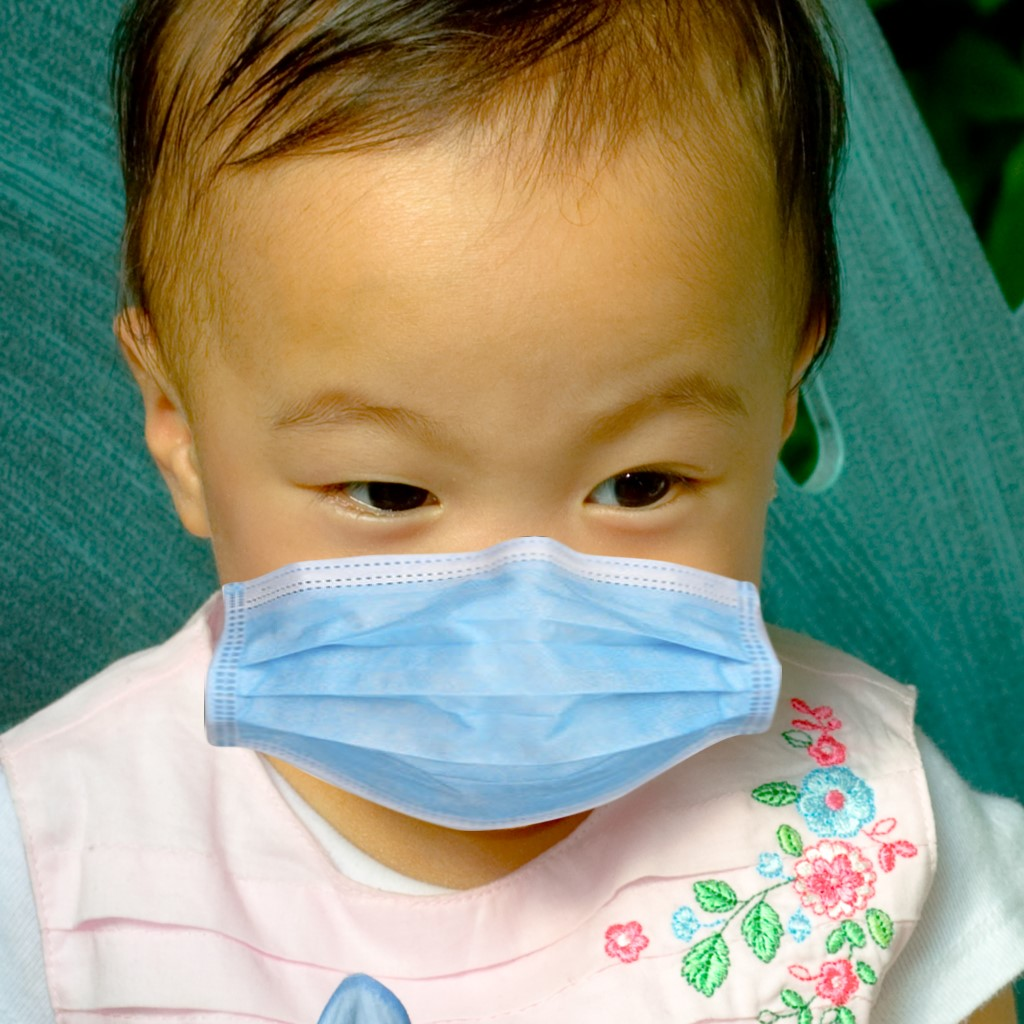con_mascara: (137, 62, 784, 822)
